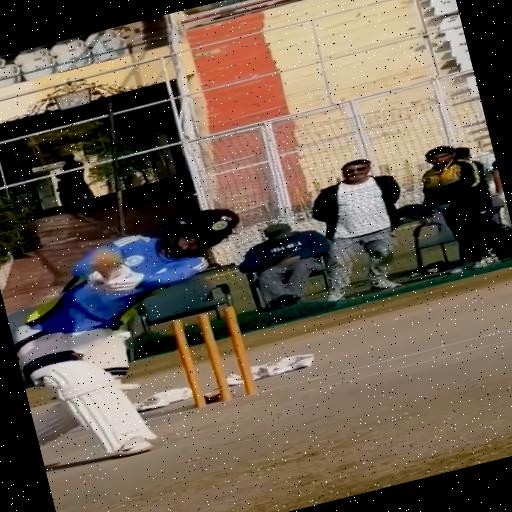Cricket bat: (93, 250, 121, 279)
